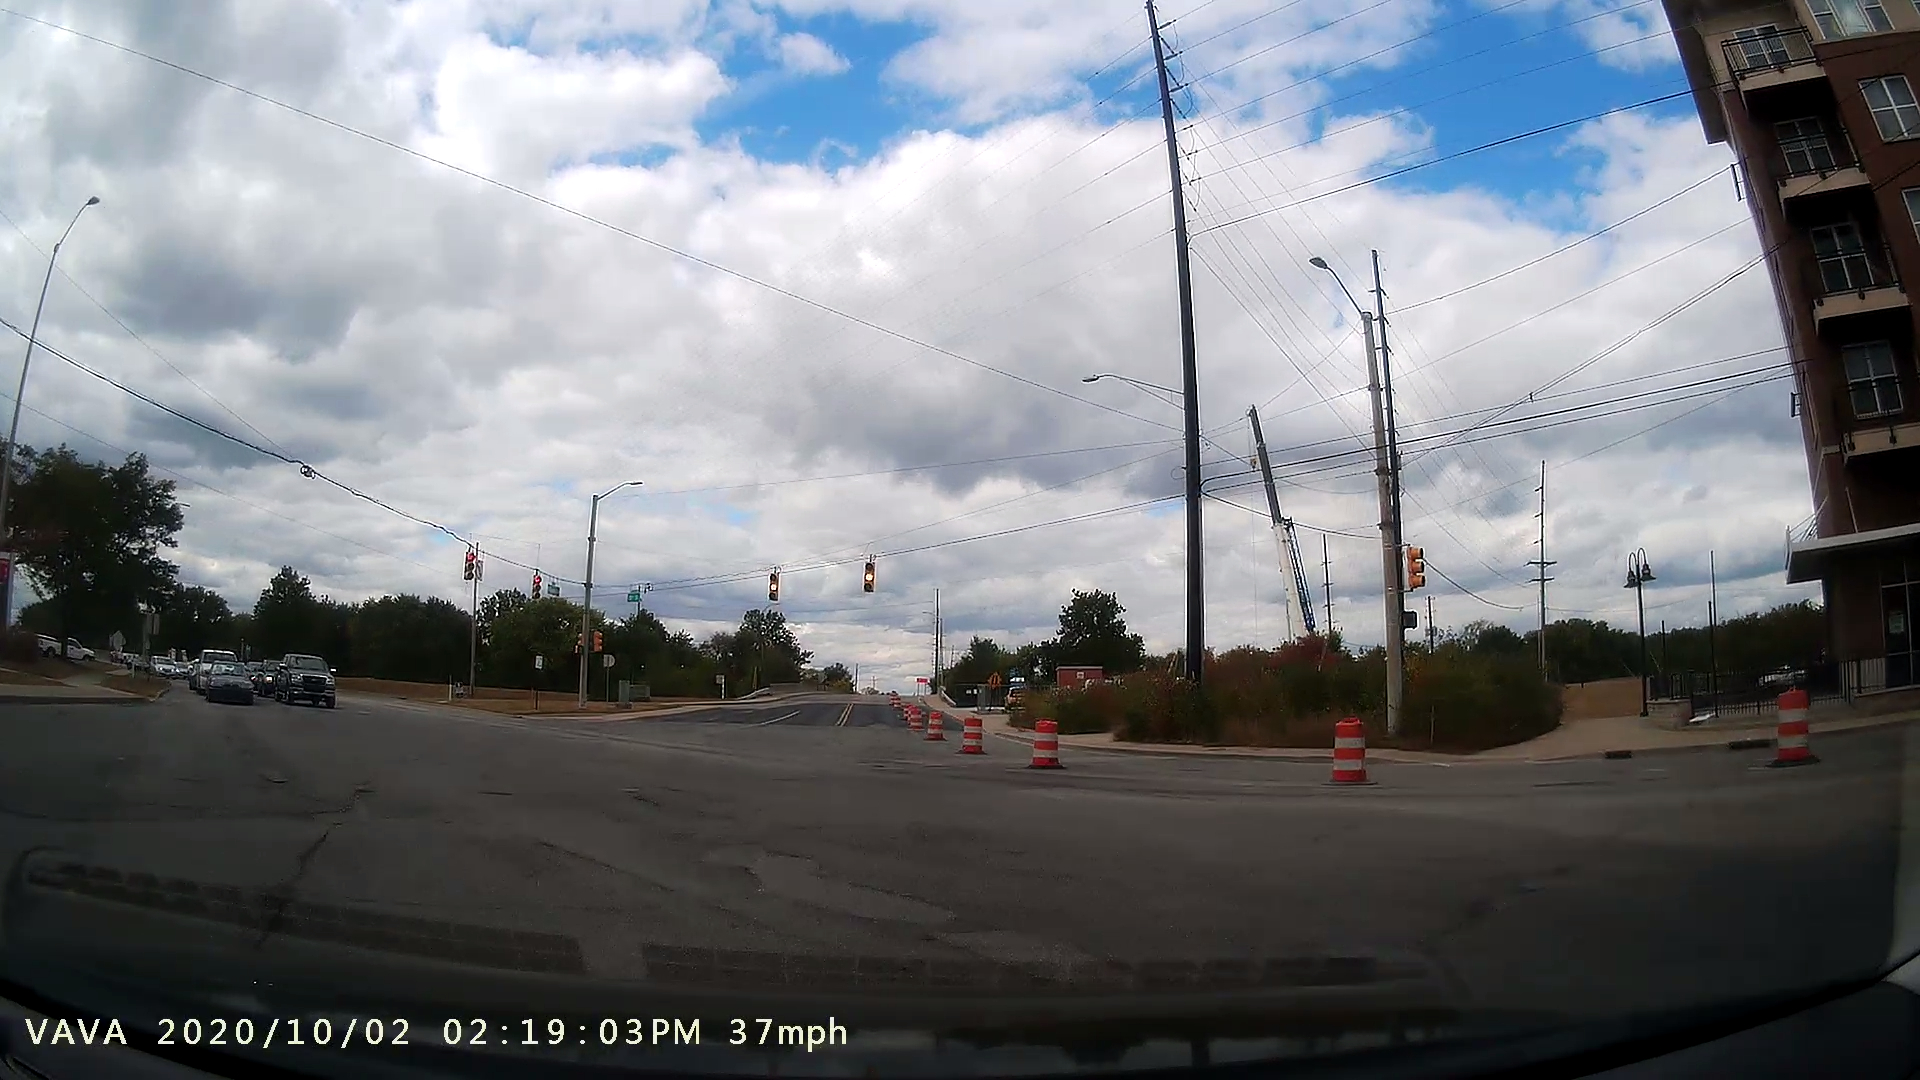const_barrel: (1758, 675, 1836, 786), (1309, 708, 1386, 798), (1015, 705, 1073, 775), (948, 703, 993, 761)
